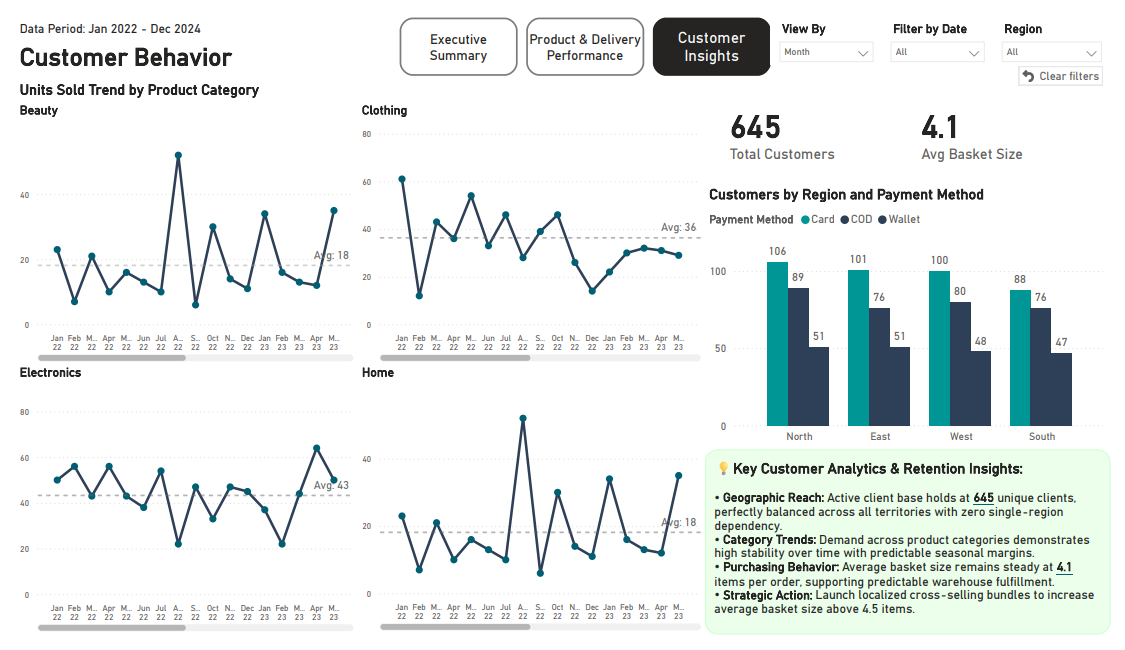

The dashboard page shown, as its layout file describes it:
{"tool":"powerbi","page":{"name":"Customer Insights","canvas":[1280,720],"ordinal":2},"visuals":[{"type":"clusteredColumnChart","title":"Customers by Region and Payment Method","fields":{"Category":["Dim_Customer.region"],"Series":["Dim_Payment.payment_method"],"Y":["Count(Fact_Sales.customer_id)"]},"box":[805.7,195.7,475.7,308.6],"z":0},{"type":"lineChart","title":"Beauty","fields":{"Category":["Dim_Calendar.Year Quarter"],"Y":["_Measures.Total Units Sold"]},"box":[0,100,400,305.7],"z":1000},{"type":"cardVisual","fields":{"Data":["_Measures.Total Unique Customers","_Measures.Avg Basket Size"]},"box":[805.7,78.6,474.3,117.1],"z":2000},{"type":"textbox","box":[805.7,504.3,474.3,215.7],"z":3000},{"type":"textbox","box":[0,23.8,300,45],"z":4000},{"type":"textbox","box":[0,0,227.1,29.7],"z":5000},{"type":"pageNavigator","box":[449.2,0,433.8,67.5],"z":6000},{"type":"slicer","fields":{"Values":["Dim_Calendar.Year","Dim_Calendar.MonthName"]},"box":[1013.1,0,130,56.9],"z":7000},{"type":"slicer","fields":{"Values":["Dim_Customer.region"]},"box":[1143.1,0,136.9,55.4],"z":8000},{"type":"actionButton","box":[1172.9,57.1,97.9,21.4],"z":9000},{"type":"lineChart","title":"Clothing","fields":{"Category":["Dim_Calendar.Year Quarter"],"Y":["_Measures.Total Units Sold"]},"box":[400,100,405.7,305.7],"z":10000},{"type":"lineChart","title":"Electronics","fields":{"Category":["Dim_Calendar.Year Quarter"],"Y":["_Measures.Total Units Sold"]},"box":[0,405.7,400,315.7],"z":11000},{"type":"lineChart","title":"Home","fields":{"Category":["Dim_Calendar.Year Quarter"],"Y":["_Measures.Total Units Sold"]},"box":[400,405.7,405.7,314.3],"z":12000},{"type":"textbox","box":[0,68.6,300,30.8],"z":13000},{"type":"slicer","fields":{"Values":["Date Granularity.Date Granularity"]},"box":[883.1,0,130,55.4],"z":14000}]}

Visuals, with their boxes in screenshot pixels (x1, y1, x2, y2), scaled from the page's 1280x720 canvas onto the 1125x650 screenshot:
"Customers by Region and Payment Method" clusteredColumnChart: (708,177,1124,455)
"Beauty" lineChart: (0,90,352,366)
cardVisual - _Measures.Total Unique Customers x _Measures.Avg Basket Size: (708,71,1124,177)
textbox: (708,455,1124,649)
textbox: (0,21,264,62)
textbox: (0,0,200,27)
pageNavigator: (395,0,776,61)
slicer - Dim_Calendar.Year x Dim_Calendar.MonthName: (890,0,1005,51)
slicer - Dim_Customer.region: (1005,0,1124,50)
actionButton: (1031,52,1117,71)
"Clothing" lineChart: (352,90,708,366)
"Electronics" lineChart: (0,366,352,649)
"Home" lineChart: (352,366,708,649)
textbox: (0,62,264,90)
slicer - Date Granularity.Date Granularity: (776,0,890,50)
